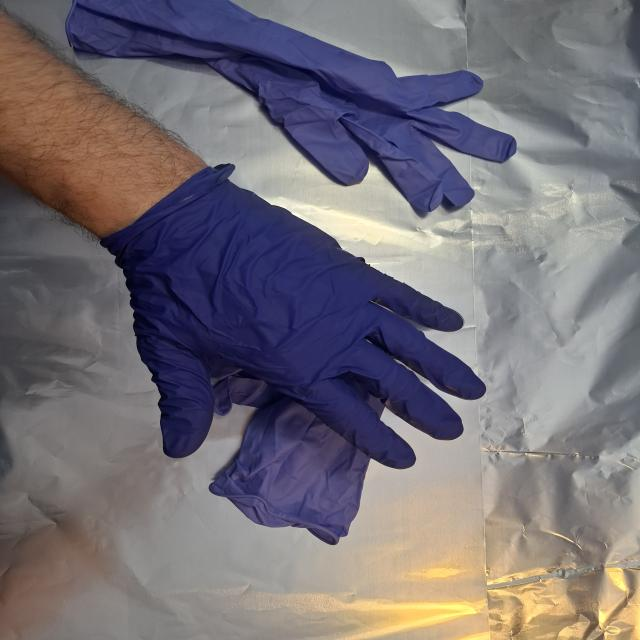glove_on: (111, 171, 492, 472)
